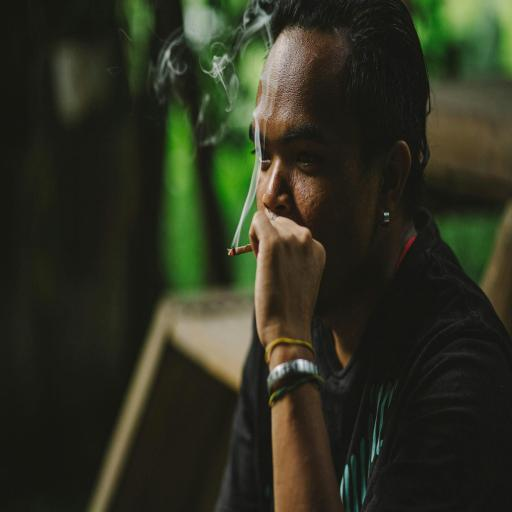terdeteksi merokok: (214, 94, 325, 316)
